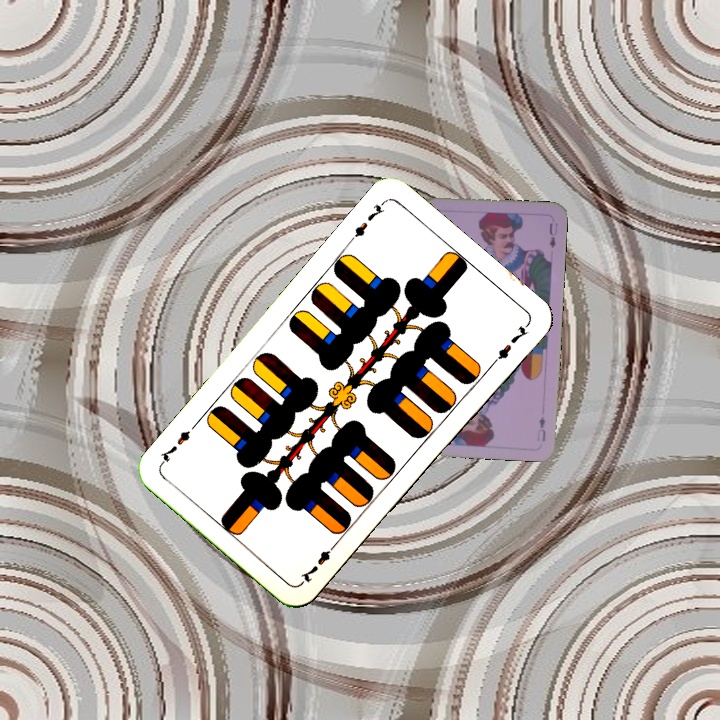E7: (296, 538, 340, 587), (344, 197, 388, 246)
EU: (533, 413, 548, 444)
